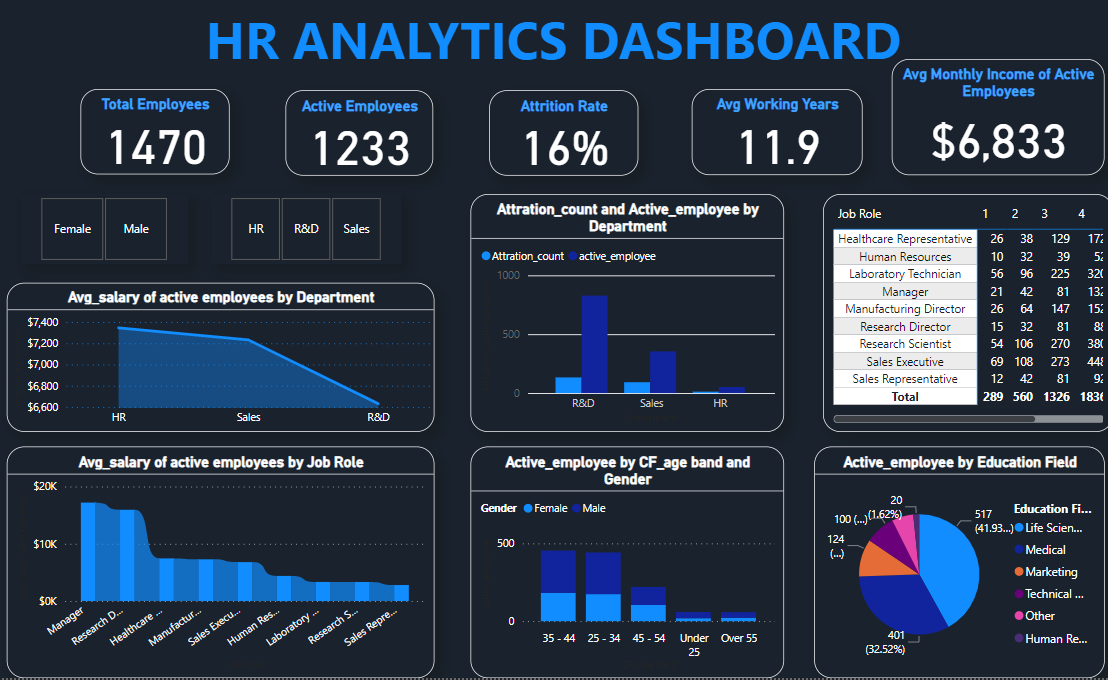

What the dashboard file says about the page in this screenshot:
{"tool":"powerbi","page":{"name":"Page 1","canvas":[1280,777],"ordinal":0},"visuals":[{"type":"card","title":"Total Employees","fields":{"Values":["HR data.Total_Employees"]},"box":[100.2,102.9,170.2,97.4],"z":0},{"type":"textbox","box":[222.3,0,835.7,90.6],"z":1000},{"type":"card","title":"Active Employees","fields":{"Values":["HR data.active_employee"]},"box":[334.8,104.3,168.8,97.4],"z":2000},{"type":"card","title":"Attrition Rate","fields":{"Values":["HR data.attritaion_rate"]},"box":[566.7,104.3,170.2,97.4],"z":3000},{"type":"card","title":"Avg Working Years ","fields":{"Values":["HR data.working_exp"]},"box":[798.6,102.9,194.9,98.8],"z":4000},{"type":"card","title":"Avg Monthly Income of  Active Employees","fields":{"Values":["HR data.avg_salary of active employees"]},"box":[1027.8,79.6,242.9,133.1],"z":5000},{"type":"slicer","fields":{"Values":["HR data.Gender"]},"box":[31.4,222.9,191.4,80],"z":6000},{"type":"slicer","fields":{"Values":["HR data.Department"]},"box":[248.6,222.9,218.6,80],"z":7000},{"type":"areaChart","title":"Avg_salary of active employees by Department","fields":{"Category":["HR data.Department"],"Y":["HR data.avg_salary of active employees"]},"box":[15.1,323.8,488.5,170.2],"z":8000},{"type":"clusteredColumnChart","title":"Attration_count and Active_employee by Department","fields":{"Y":["HR data.Attration_count","HR data.active_employee"],"Category":["HR data.Department"]},"box":[546.1,222.3,358.1,271.7],"z":9000},{"type":"pieChart","title":"Active_employee by Education Field","fields":{"Category":["HR data.Education Field"],"Y":["HR data.active_employee"]},"box":[938.6,511.8,332.1,264.8],"z":10000},{"type":"pivotTable","title":"Job satisifaction Rating by department wise","fields":{"Columns":["HR data.Job Satisfaction"],"Values":["Sum(HR data.Job Satisfaction)"],"Rows":["HR data.Job Role"]},"box":[948.2,222.3,332.1,271.7],"z":11000},{"type":"ribbonChart","title":"Avg_salary of active employees by Job Role","fields":{"Category":["HR data.Job Role"],"Y":["HR data.avg_salary of active employees"]},"box":[15.1,511.8,488.5,264.8],"z":12000},{"type":"lineStackedColumnComboChart","title":"Active_employee by CF_age band and Gender","fields":{"Category":["HR data.CF_age band"],"Y":["HR data.active_employee"],"Series":["HR data.Gender"]},"box":[546.1,511.8,358.1,264.8],"z":13000}]}

Visuals, with their boxes in screenshot pixels (x1, y1, x2, y2), scaled from the page's 1280x777 canvas onto the 1108x680 screenshot:
"Total Employees" card: {"x1": 87, "y1": 90, "x2": 234, "y2": 175}
textbox: {"x1": 192, "y1": 0, "x2": 916, "y2": 79}
"Active Employees" card: {"x1": 290, "y1": 91, "x2": 436, "y2": 177}
"Attrition Rate" card: {"x1": 491, "y1": 91, "x2": 638, "y2": 177}
"Avg Working Years " card: {"x1": 691, "y1": 90, "x2": 860, "y2": 177}
"Avg Monthly Income of  Active Employees" card: {"x1": 890, "y1": 70, "x2": 1100, "y2": 186}
slicer - HR data.Gender: {"x1": 27, "y1": 195, "x2": 193, "y2": 265}
slicer - HR data.Department: {"x1": 215, "y1": 195, "x2": 404, "y2": 265}
"Avg_salary of active employees by Department" areaChart: {"x1": 13, "y1": 283, "x2": 436, "y2": 432}
"Attration_count and Active_employee by Department" clusteredColumnChart: {"x1": 473, "y1": 195, "x2": 783, "y2": 432}
"Active_employee by Education Field" pieChart: {"x1": 812, "y1": 448, "x2": 1100, "y2": 679}
"Job satisifaction Rating by department wise" pivotTable: {"x1": 821, "y1": 195, "x2": 1107, "y2": 432}
"Avg_salary of active employees by Job Role" ribbonChart: {"x1": 13, "y1": 448, "x2": 436, "y2": 679}
"Active_employee by CF_age band and Gender" lineStackedColumnComboChart: {"x1": 473, "y1": 448, "x2": 783, "y2": 679}
